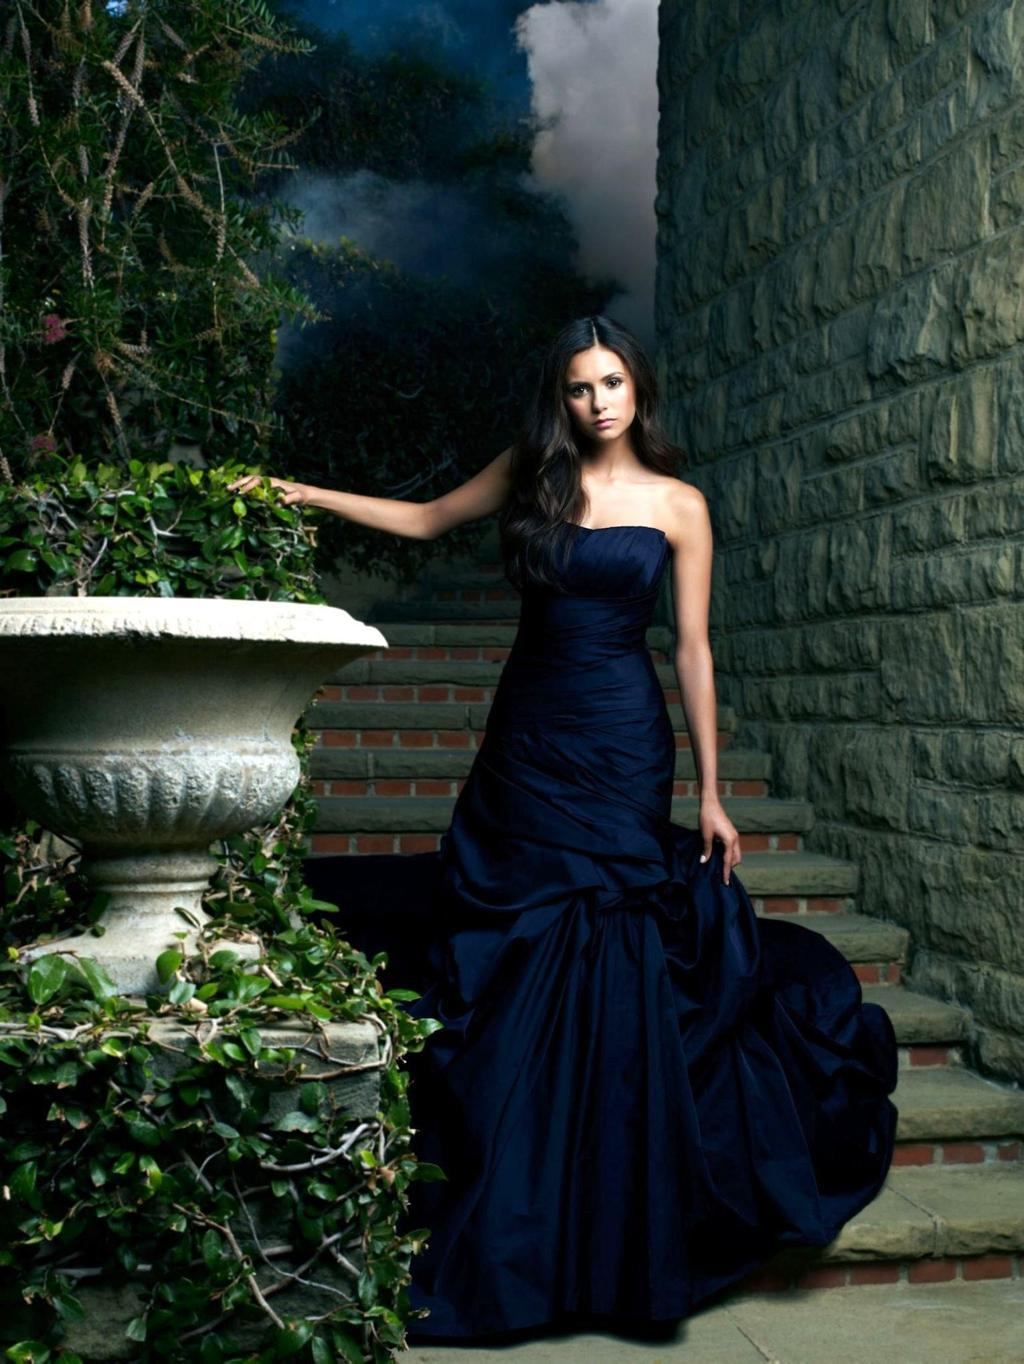face: (565, 349, 634, 439)
